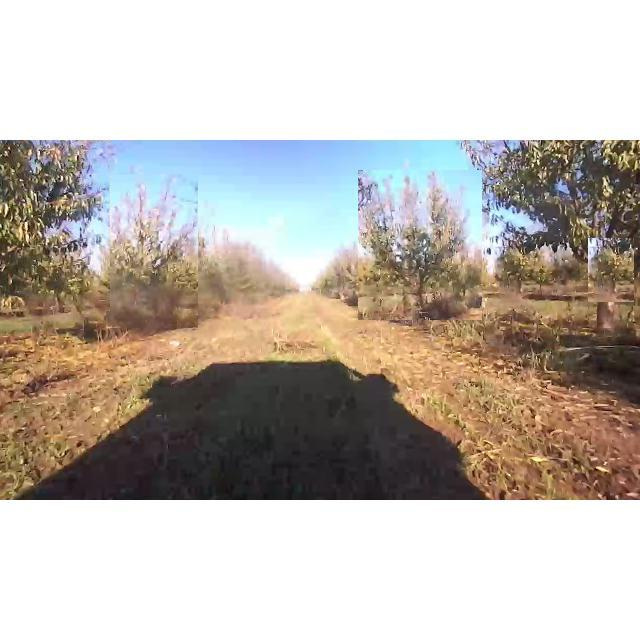direk: (488, 144, 640, 342), (0, 141, 110, 311), (358, 170, 482, 320), (106, 174, 198, 328), (494, 238, 540, 302)
